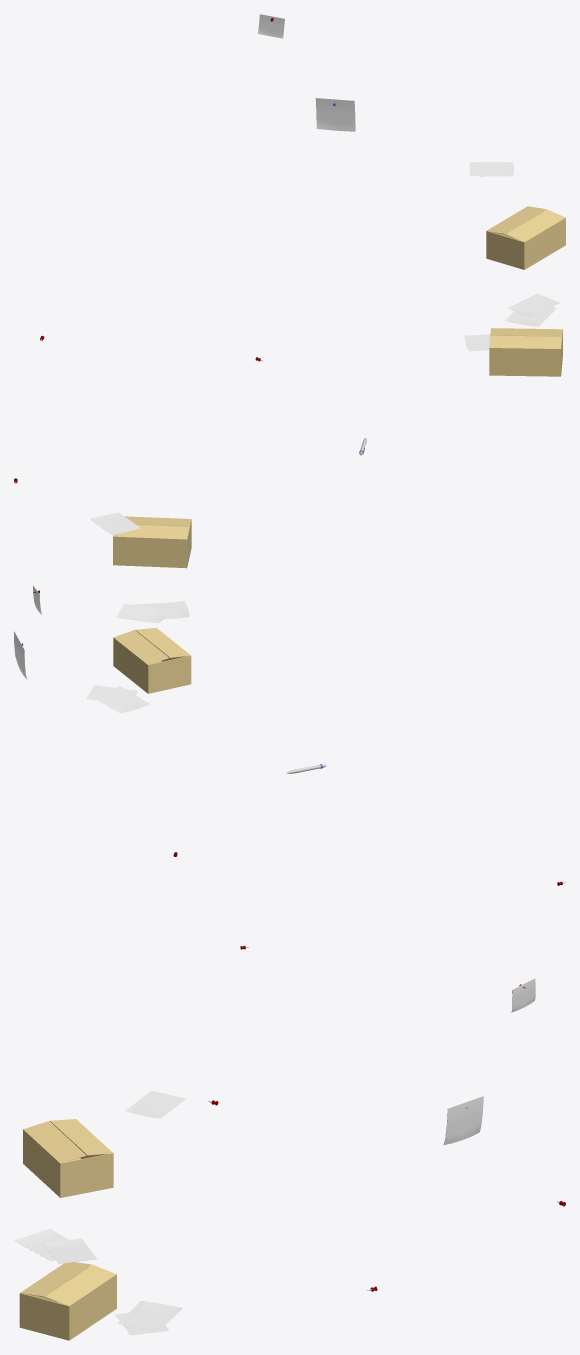
The model's file is FindPassword_office_L3_v5.gltf.
The picture shows the model from 3 angles, top to bottom: view 1: azimuth 30°, elevation 25°; view 2: azimuth 150°, elevation 25°; view 3: azimuth 270°, elevation 25°; orthographic projection. The views are drawn at different scales.
Parts seen in each view (by area): view 1: Level_3; view 2: Level_3; view 3: Level_3.
Boxes of the visible parts, <box> form: Level_3: <box>14,14,565,483</box>; Level_3: <box>14,512,565,949</box>; Level_3: <box>14,978,565,1340</box>.
Bounding box in the file's own units: 4.34 × 2.39 × 3.38.
